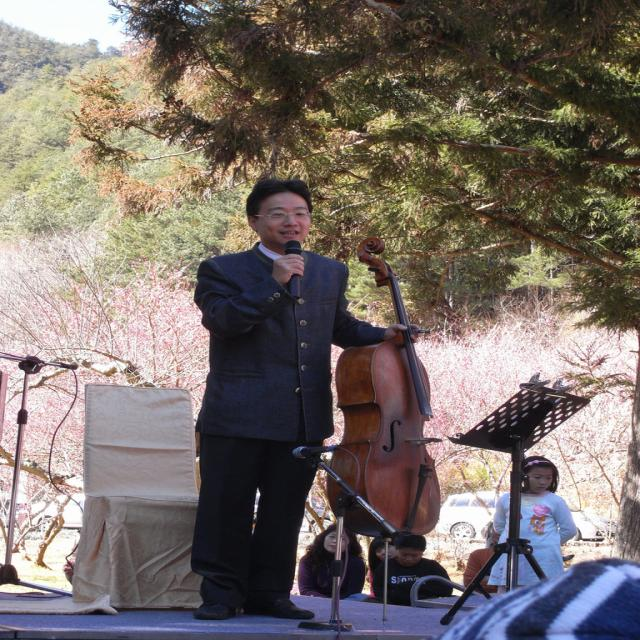cello: (325, 236, 448, 539)
